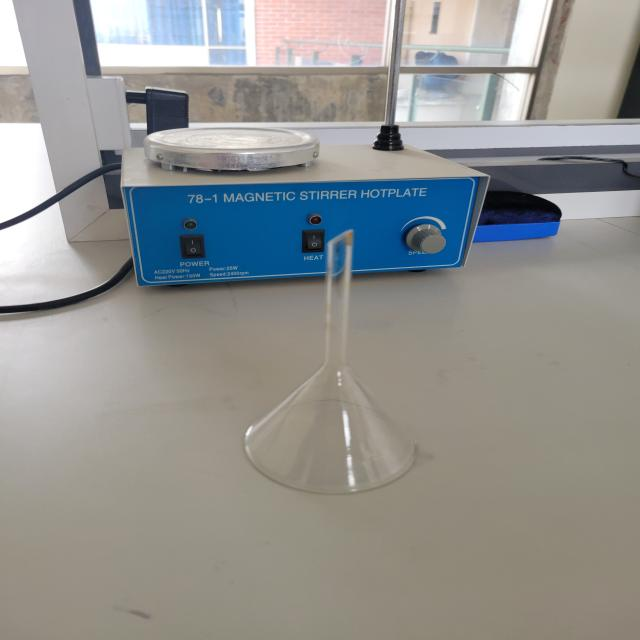Funnel: (216, 224, 453, 511)
